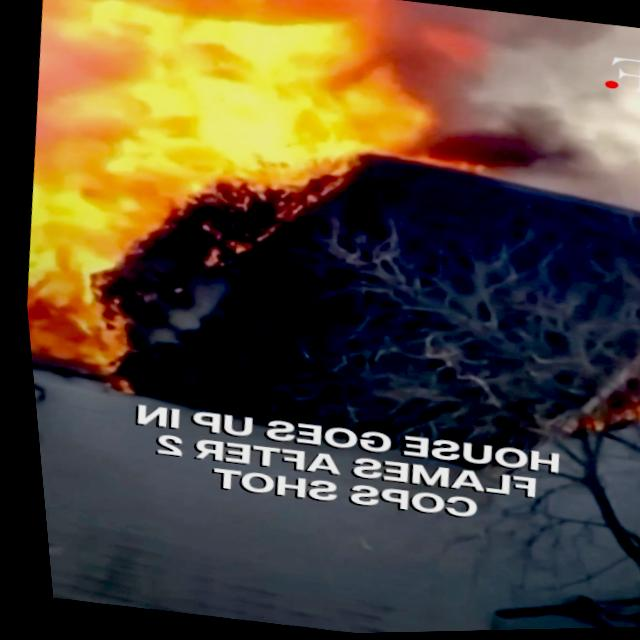Fire: (0, 0, 490, 423)
Smoke: (427, 68, 640, 223)
